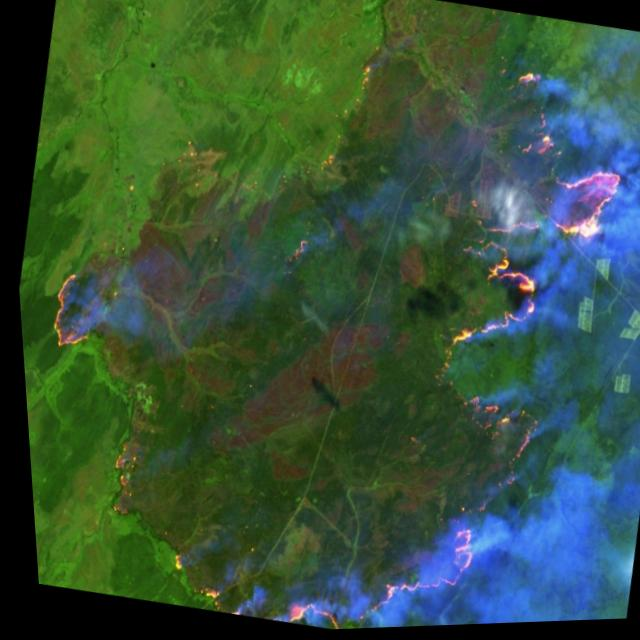fire: (426, 49, 640, 380), (149, 467, 477, 636), (30, 257, 109, 362)
